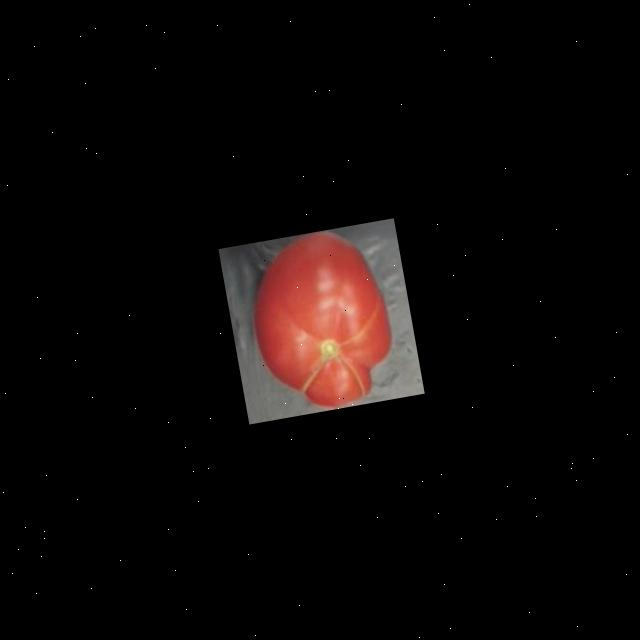tomato: (232, 220, 408, 420)
